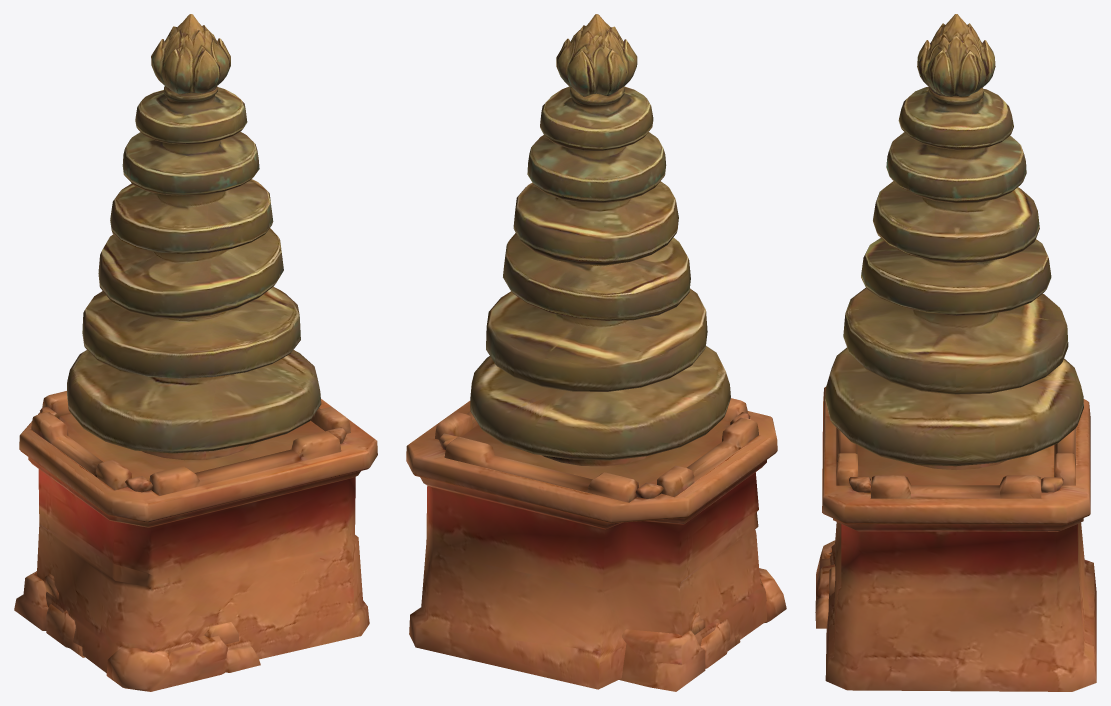
File: SM_Tripo_DesertFinial.glb
3 views of the same model, side by side, from view 1: azimuth 30°, elevation 25°; view 2: azimuth 150°, elevation 25°; view 3: azimuth 270°, elevation 25° (orthographic). The views are drawn at different scales.
Visible parts, largest first — view 1: SM_Tripo_DesertFinial_LOD0; view 2: SM_Tripo_DesertFinial_LOD0; view 3: SM_Tripo_DesertFinial_LOD0.
Part boxes in pixels (x1,y1,x2,y2): SM_Tripo_DesertFinial_LOD0: [14, 14, 377, 691]; SM_Tripo_DesertFinial_LOD0: [406, 14, 786, 691]; SM_Tripo_DesertFinial_LOD0: [815, 14, 1096, 691].
Size of the model in its own units: 2.53 by 5.5 by 2.28.
Materials: 1 (1 with a texture image).
